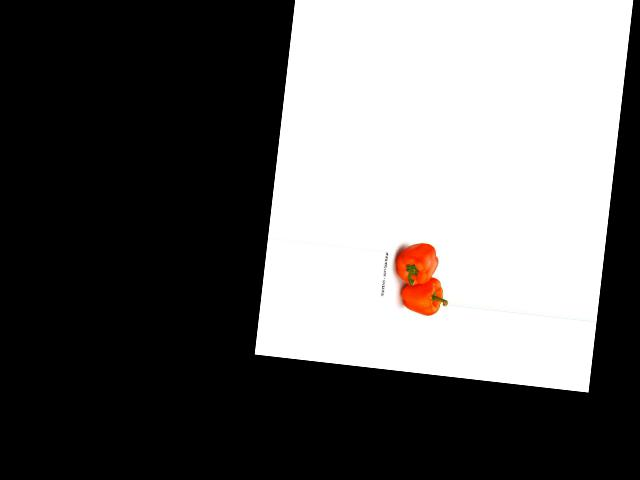bell_pepper: (389, 238, 441, 289)
